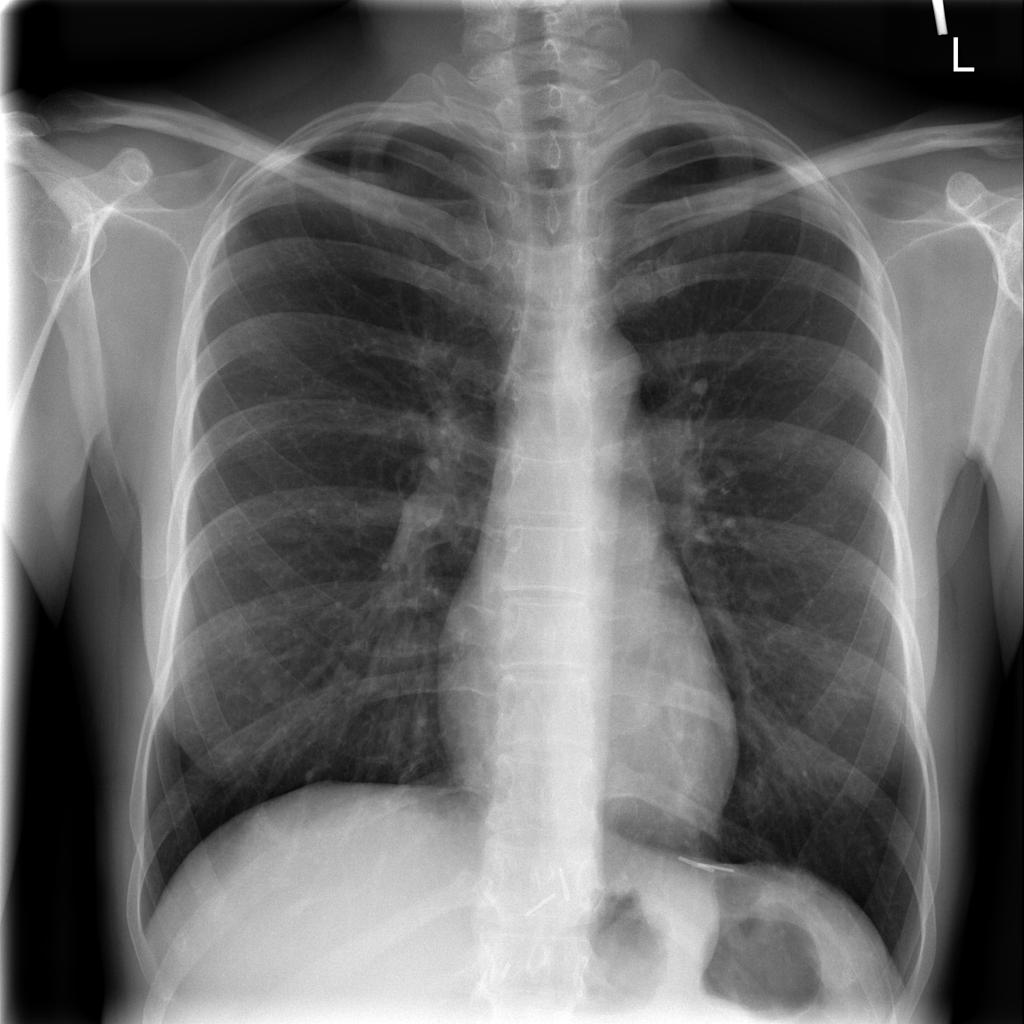nodule: (249, 661, 297, 714), (264, 511, 315, 559)
